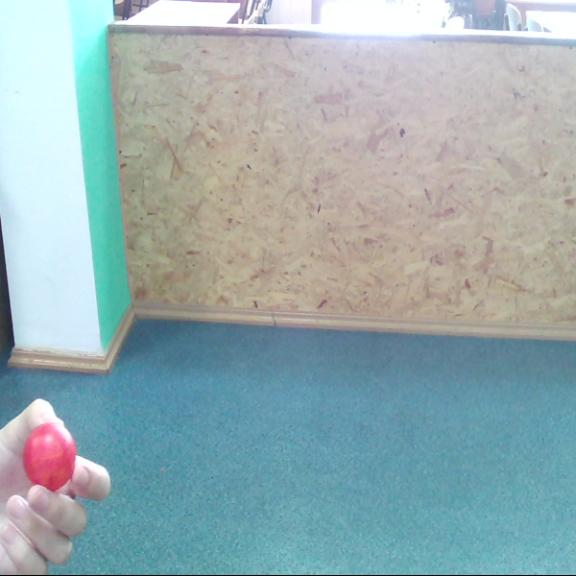ball: (22, 424, 82, 493)
